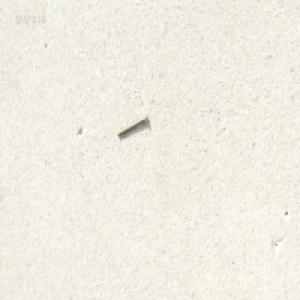Bolt: (116, 112, 147, 137)
